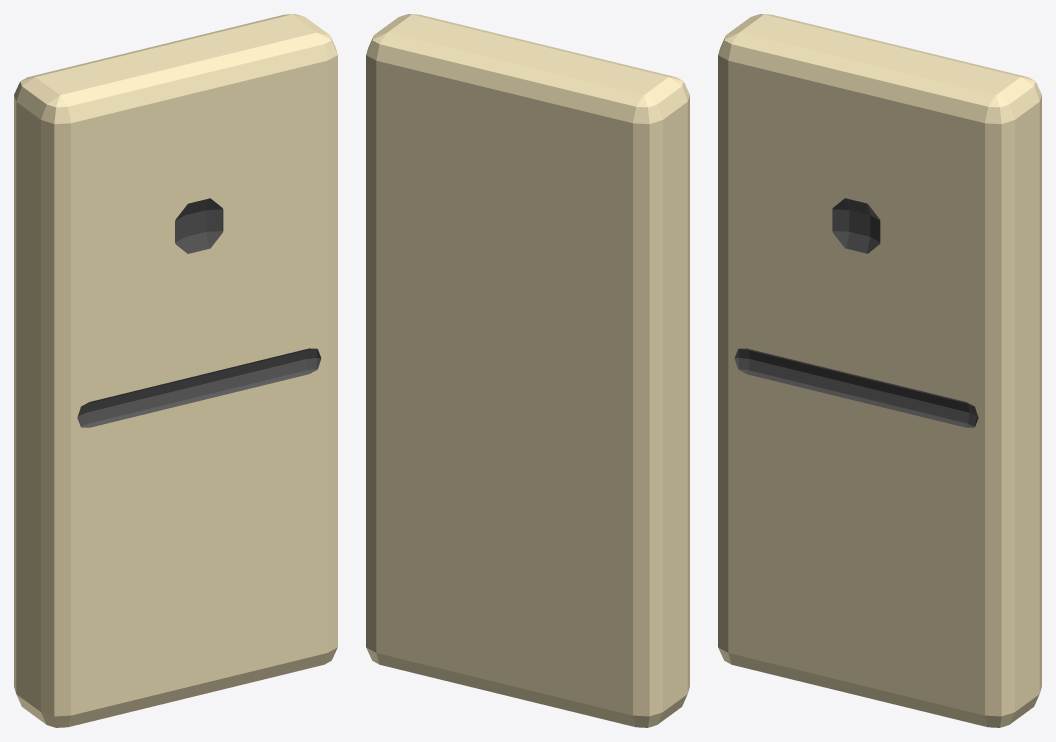
Rendered from dominoes 1x0.fbx.
3 views of the same model, side by side, from view 1: azimuth 30°, elevation 25°; view 2: azimuth 150°, elevation 25°; view 3: azimuth 330°, elevation 25° (orthographic).
Parts seen in each view (by area): view 1: Boole_10; view 2: Boole_10; view 3: Boole_10.
Part boxes in pixels (<box>): Boole_10: <box>14,14,337,727</box>; Boole_10: <box>366,14,689,727</box>; Boole_10: <box>718,14,1041,727</box>.
Size of the model in its own units: 200 by 410 by 55.02.
